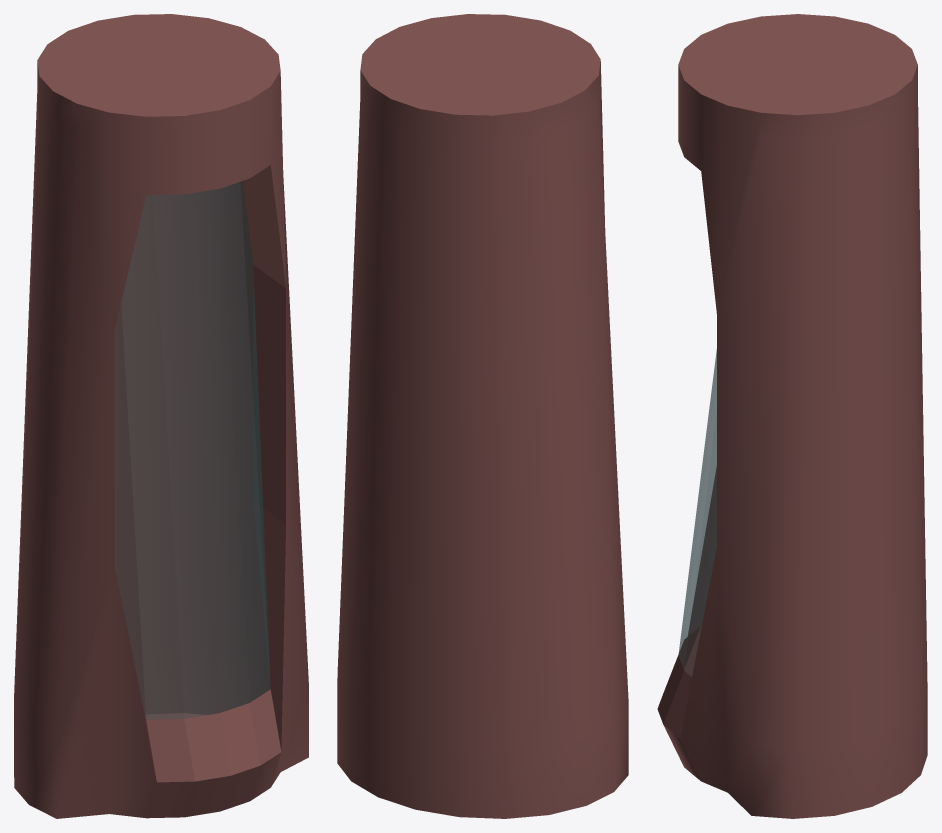
File: CryoPod.fbx
3 renders of one model, left to right at view 1: azimuth 30°, elevation 25°; view 2: azimuth 150°, elevation 25°; view 3: azimuth 270°, elevation 25°, orthographic. The views are drawn at different scales.
Visible parts, largest first — view 1: CryoPod; view 2: CryoPod; view 3: CryoPod.
Boxes of the visible parts, box(x1,y1,x2,y2) form: CryoPod: box(14, 14, 308, 818); CryoPod: box(337, 14, 628, 818); CryoPod: box(657, 14, 927, 818).
Bounding box in the file's own units: 150 × 382 × 135.
